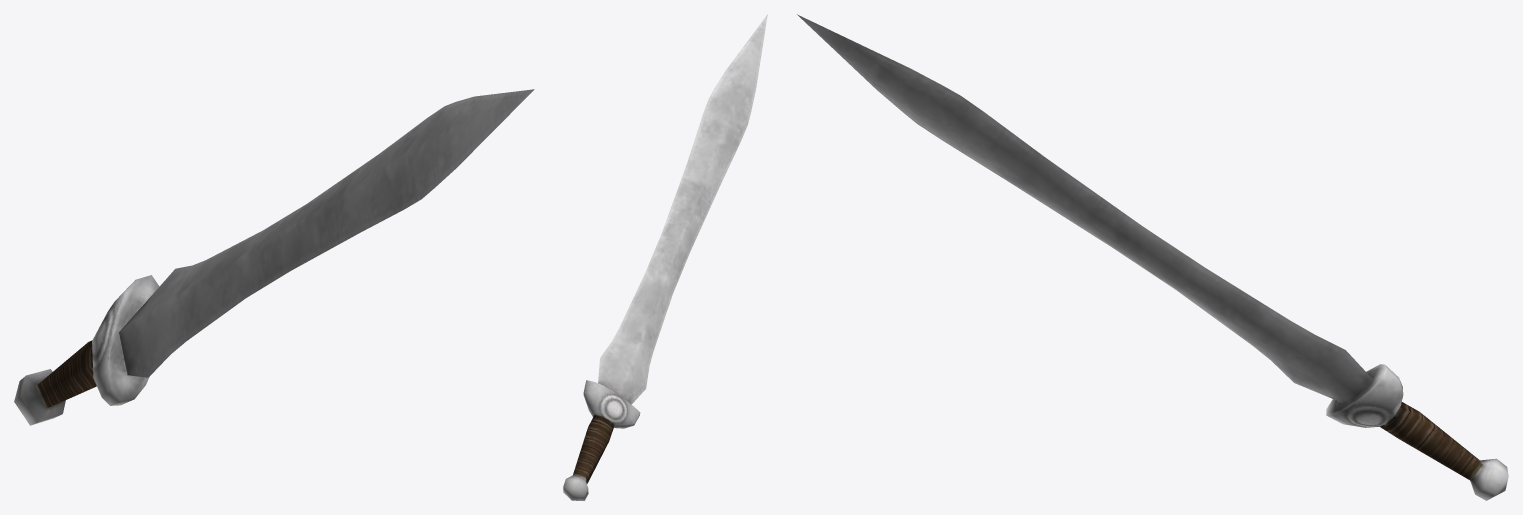
File: weapon-bronzeweapons.glb
The picture shows the model from 3 angles, left to right: view 1: azimuth 30°, elevation 25°; view 2: azimuth 150°, elevation 25°; view 3: azimuth 270°, elevation 25°; orthographic projection. The views are drawn at different scales.
Size of the model in its own units: 0.1014 by 0.6248 by 0.7994.
1 material, 1 textured.
